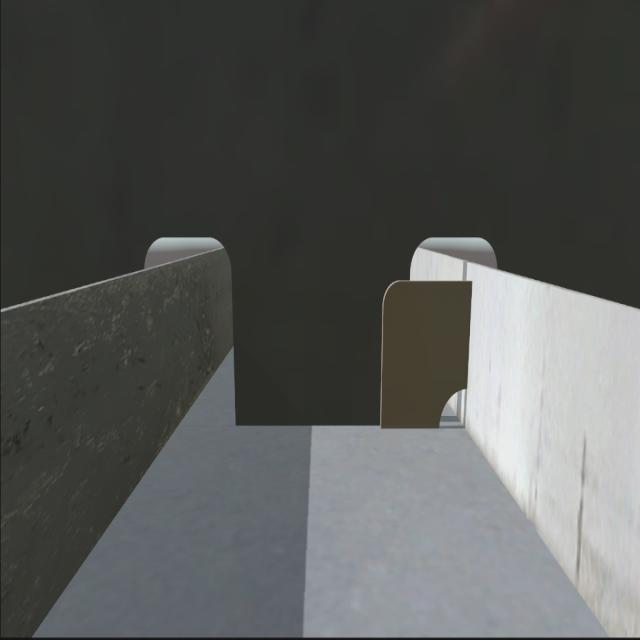fillet_hole: (439, 385, 465, 429)
fillet_yong_jeop_jang: (235, 413, 440, 438)
longi_yong_jeop_jang: (460, 270, 476, 398)
plate_CP05: (382, 277, 472, 426)
